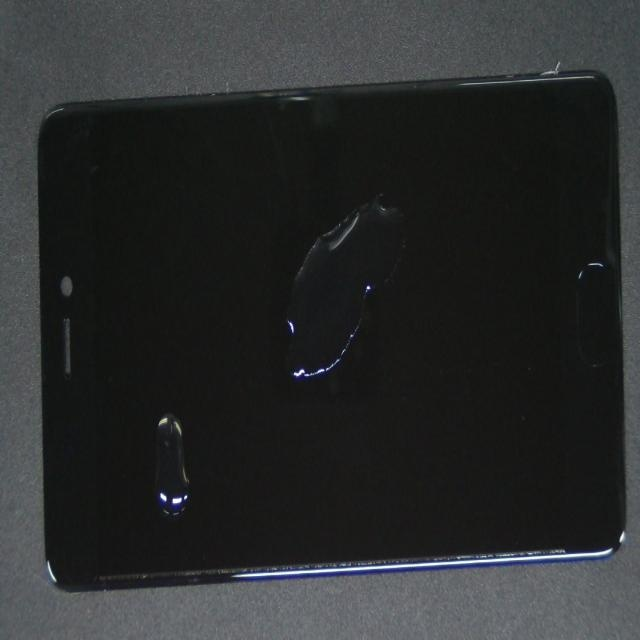oil: (167, 236, 571, 443), (105, 259, 286, 640)
